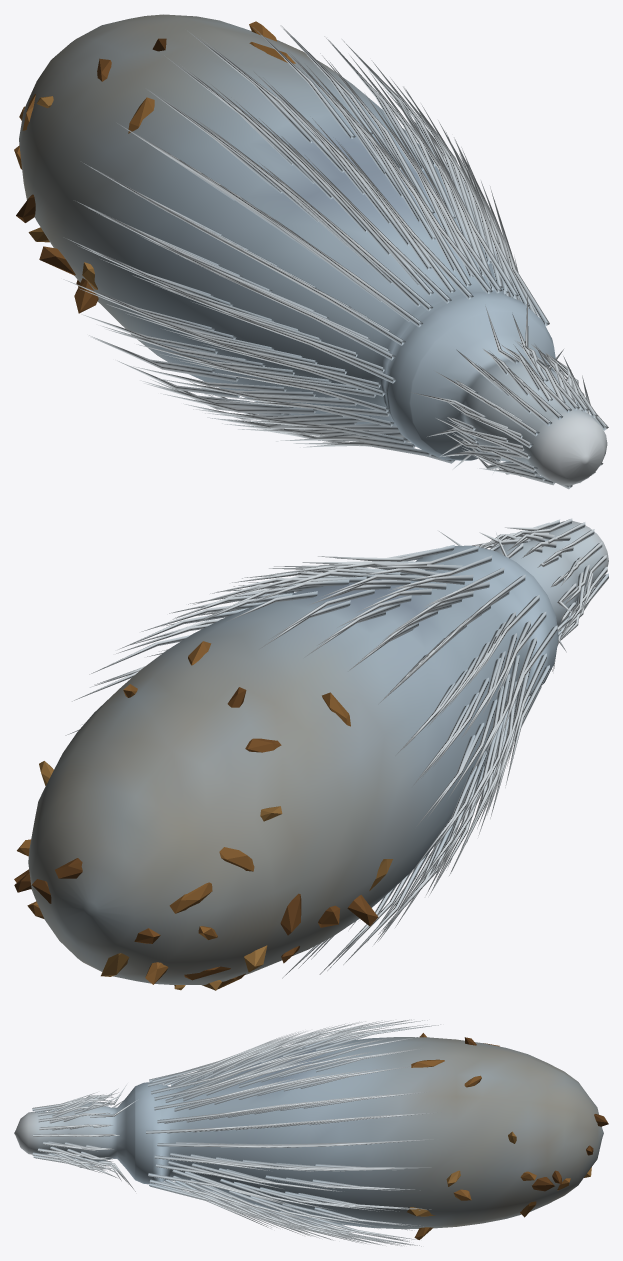
Rendered from TrichonymphaCollaris.fbx.
3 views of the same model, one above another, from view 1: azimuth 30°, elevation 25°; view 2: azimuth 150°, elevation 25°; view 3: azimuth 270°, elevation 25° (orthographic). The views are drawn at different scales.
Visible parts, largest first — view 1: TrichonymphaCollaris; view 2: TrichonymphaCollaris; view 3: TrichonymphaCollaris.
Part boxes in pixels (x1,y1,x2,y2): TrichonymphaCollaris: [14, 14, 608, 489]; TrichonymphaCollaris: [14, 518, 608, 990]; TrichonymphaCollaris: [14, 1019, 608, 1246].
Size of the model in its own units: 0.7172 by 0.683 by 1.82.
